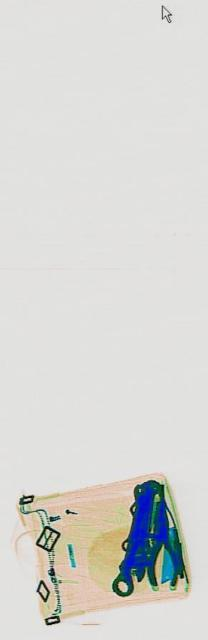Pliers: (144, 498, 175, 592)
Wrench: (109, 453, 156, 614)
